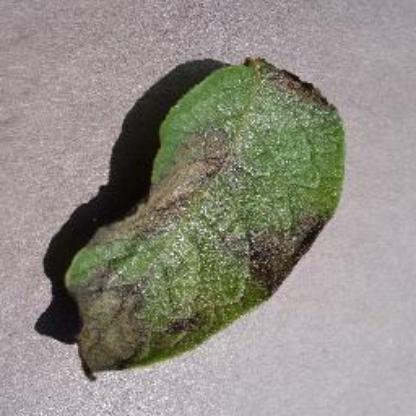Late-Blight: (64, 50, 348, 386)
